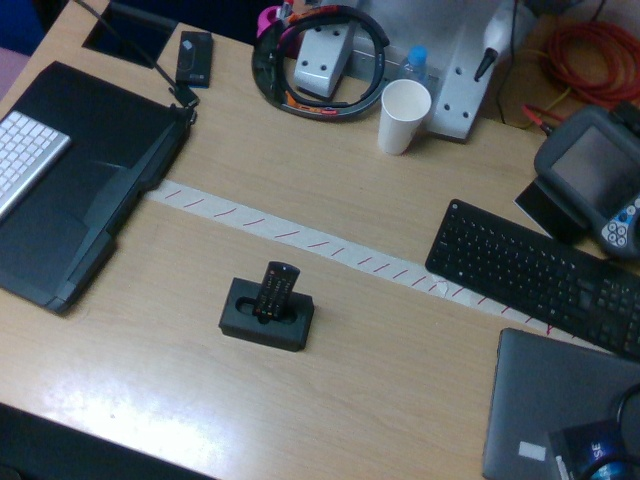remote: (253, 263, 301, 318)
